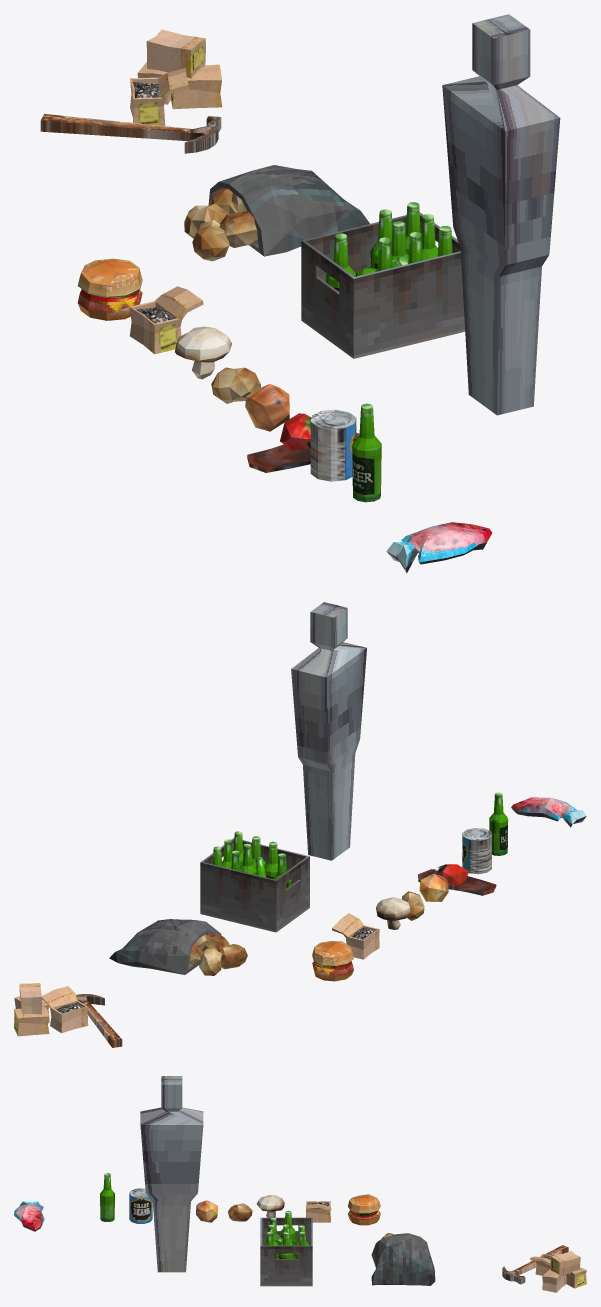
File: soup-sandal.glb
3 views of the same model, one above another, from view 1: azimuth 30°, elevation 25°; view 2: azimuth 150°, elevation 25°; view 3: azimuth 270°, elevation 25° (orthographic). The views are drawn at different scales.
Visible parts, largest first — view 1: HumanSizeRef-noimp, Plane, Plane.001, soup-burger, Plane.002, soup-fish, soup-beans, soup-nails, soup-beer, soup-nails.004, soup-nails.001, soup-shroom (+8 smaller); view 2: HumanSizeRef-noimp, Plane, Plane.001, soup-nails.001, soup-burger, soup-fish, soup-beans, soup-nails, soup-beer, Plane.002, soup-nails.002, soup-shroom (+3 smaller); view 3: HumanSizeRef-noimp, Plane.001, Plane, soup-burger, soup-beans, soup-fish, soup-beer, soup-nails.004, Plane.002, soup-nails, soup-shroom, soup-nails.003 (+4 smaller).
Part boxes in pixels (x1,y1,x2,y2): HumanSizeRef-noimp: (442,14,560,415); Plane: (301,212,465,358); Plane.001: (208,165,369,256); soup-burger: (77,258,142,320); Plane.002: (40,114,221,153); soup-fish: (386,522,492,573); soup-beans: (310,409,356,481); soup-nails: (129,286,203,354); soup-beer: (352,403,381,502); soup-nails.004: (146,29,205,78); soup-nails.001: (130,68,189,125); soup-shroom: (175,326,231,379); HumanSizeRef-noimp: (291,602,366,860); Plane: (200,838,309,932); Plane.001: (109,919,221,974); soup-nails.001: (41,986,88,1033); soup-burger: (312,941,353,981); soup-fish: (511,797,586,827); soup-beans: (462,828,491,874); soup-nails: (332,913,379,959); soup-beer: (489,792,508,855); Plane.002: (76,994,122,1047); soup-nails.002: (14,1006,49,1036); soup-shroom: (376,897,410,929); HumanSizeRef-noimp: (140,1076,203,1272); Plane.001: (371,1233,435,1285); Plane: (260,1217,312,1286); soup-burger: (347,1194,380,1225); soup-beans: (129,1188,152,1223); soup-fish: (14,1201,44,1231); soup-beer: (100,1173,114,1221); soup-nails.004: (550,1251,580,1275); Plane.002: (502,1245,568,1284); soup-nails: (306,1201,331,1222); soup-shroom: (256,1195,284,1217); soup-nails.003: (542,1269,566,1292).
Bounding box in the file's own units: 1.79 × 1.84 × 4.99.
4 materials, 4 textured.
